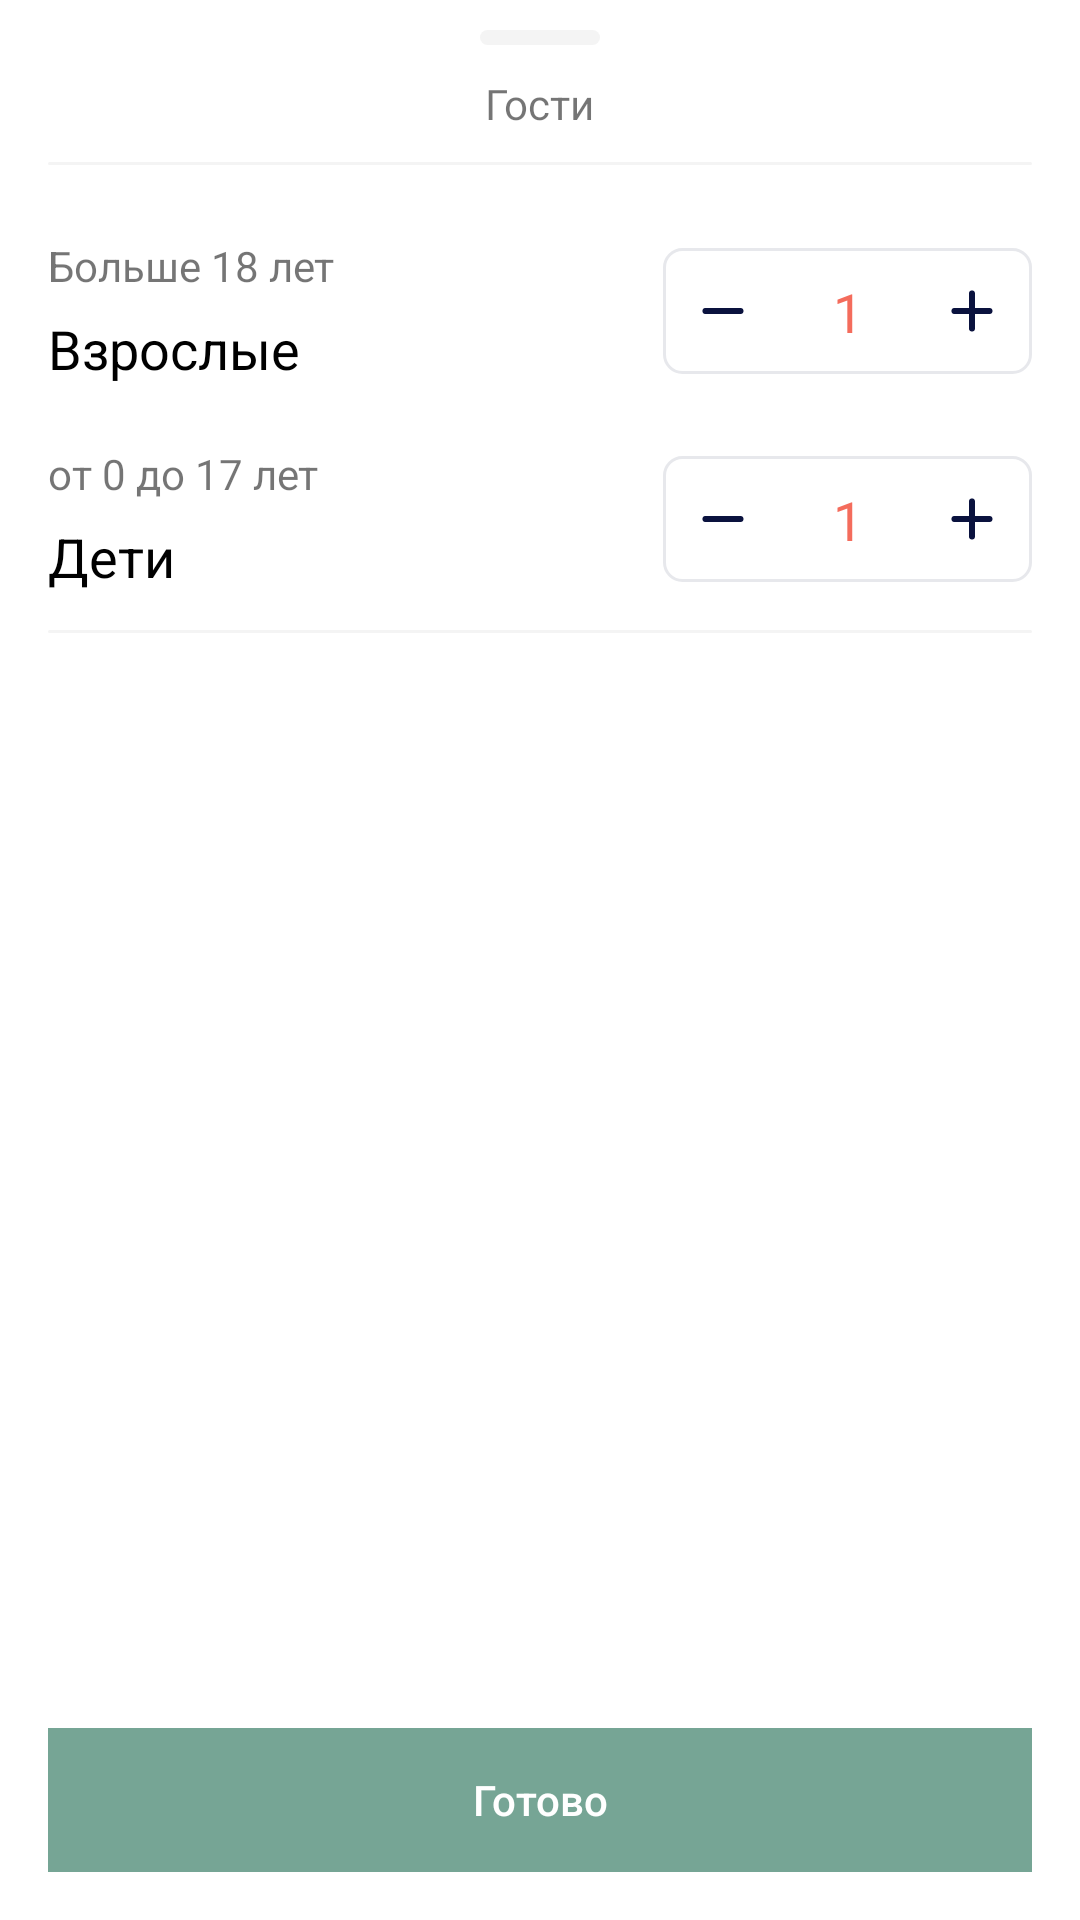

Locate icon controls on the screen. Image size 1080px x 1920px, boxes as region(x1, y1, x2, y2).
plus: region(951, 290, 993, 332), region(951, 498, 993, 540)
